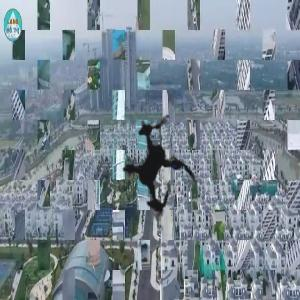drone: (65, 77, 246, 258)
